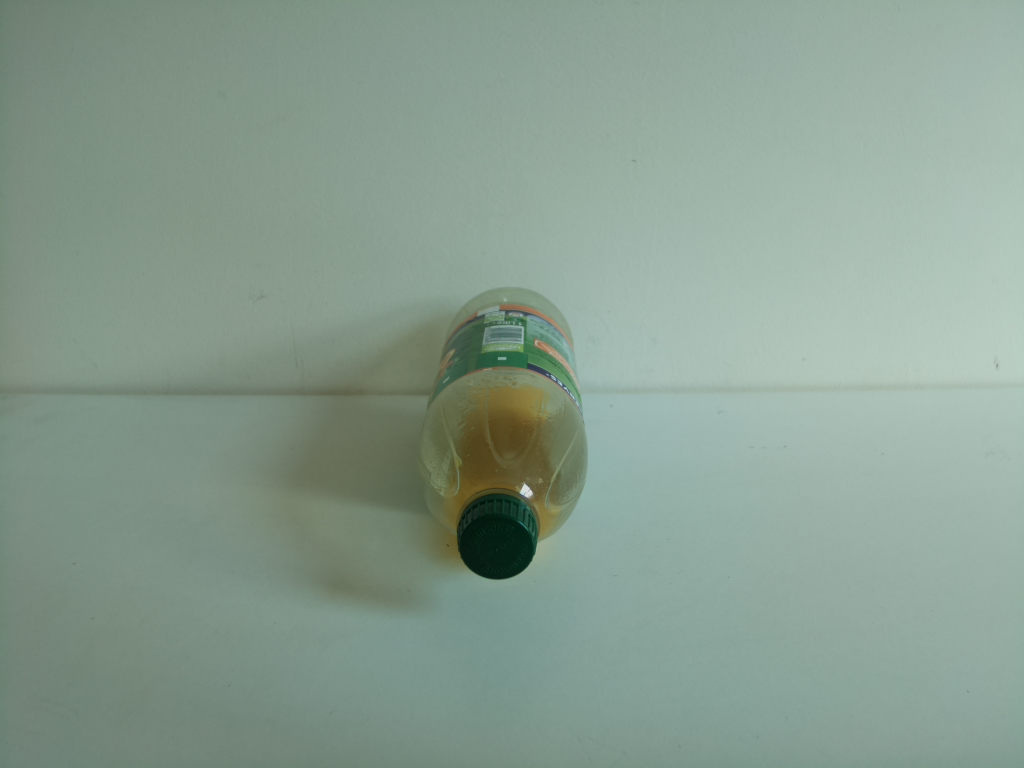juice: (412, 280, 587, 582)
